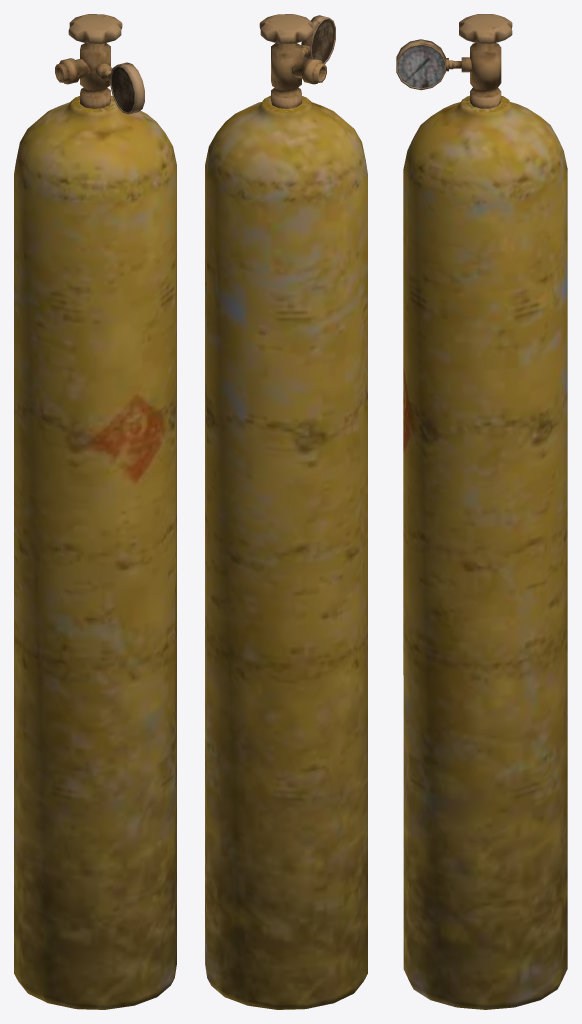
The model's file is gas-cylinder-tall--3.gltf.
The picture shows the model from 3 angles, left to right: view 1: azimuth 30°, elevation 25°; view 2: azimuth 150°, elevation 25°; view 3: azimuth 270°, elevation 25°; orthographic projection.
Visible parts, largest first — view 1: cylinder3, valve3, tap3, dial3, dial.rim3; view 2: cylinder3, valve3, tap3, dial3, dial.rim3; view 3: cylinder3, valve3, dial3, tap3, dial.rim3.
Part boxes in pixels (x1,y1,x2,y2): cylinder3: (14,95,176,1009); valve3: (55,43,112,108); tap3: (68,14,122,43); dial3: (111,66,134,112); dial.rim3: (110,62,144,114); cylinder3: (205,95,367,1009); valve3: (271,43,326,108); tap3: (259,14,313,43); dial3: (312,19,334,63); dial.rim3: (301,15,335,64); cylinder3: (403,95,567,1009); valve3: (446,43,501,108); dial3: (398,45,444,88); tap3: (459,14,512,43); dial.rim3: (396,39,445,90).
Bounding box in the file's own units: 0.2253 × 1.45 × 0.2351.
Materials: 5 (5 with a texture image).
